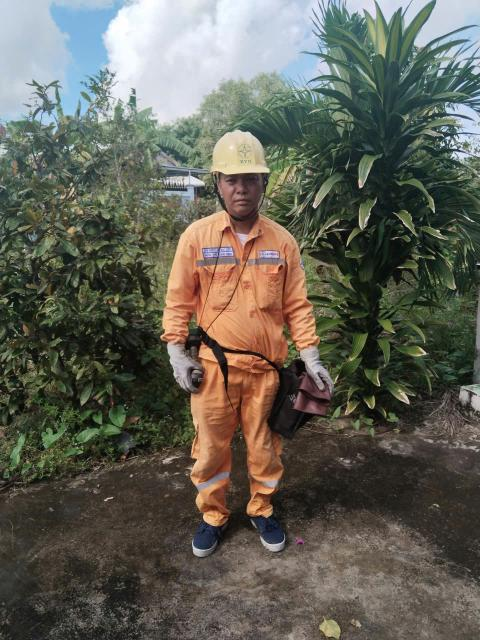gloves: (300, 340, 337, 396), (164, 342, 205, 392)
helmet: (198, 123, 279, 196)
shoes: (176, 501, 235, 558), (250, 496, 296, 558)
